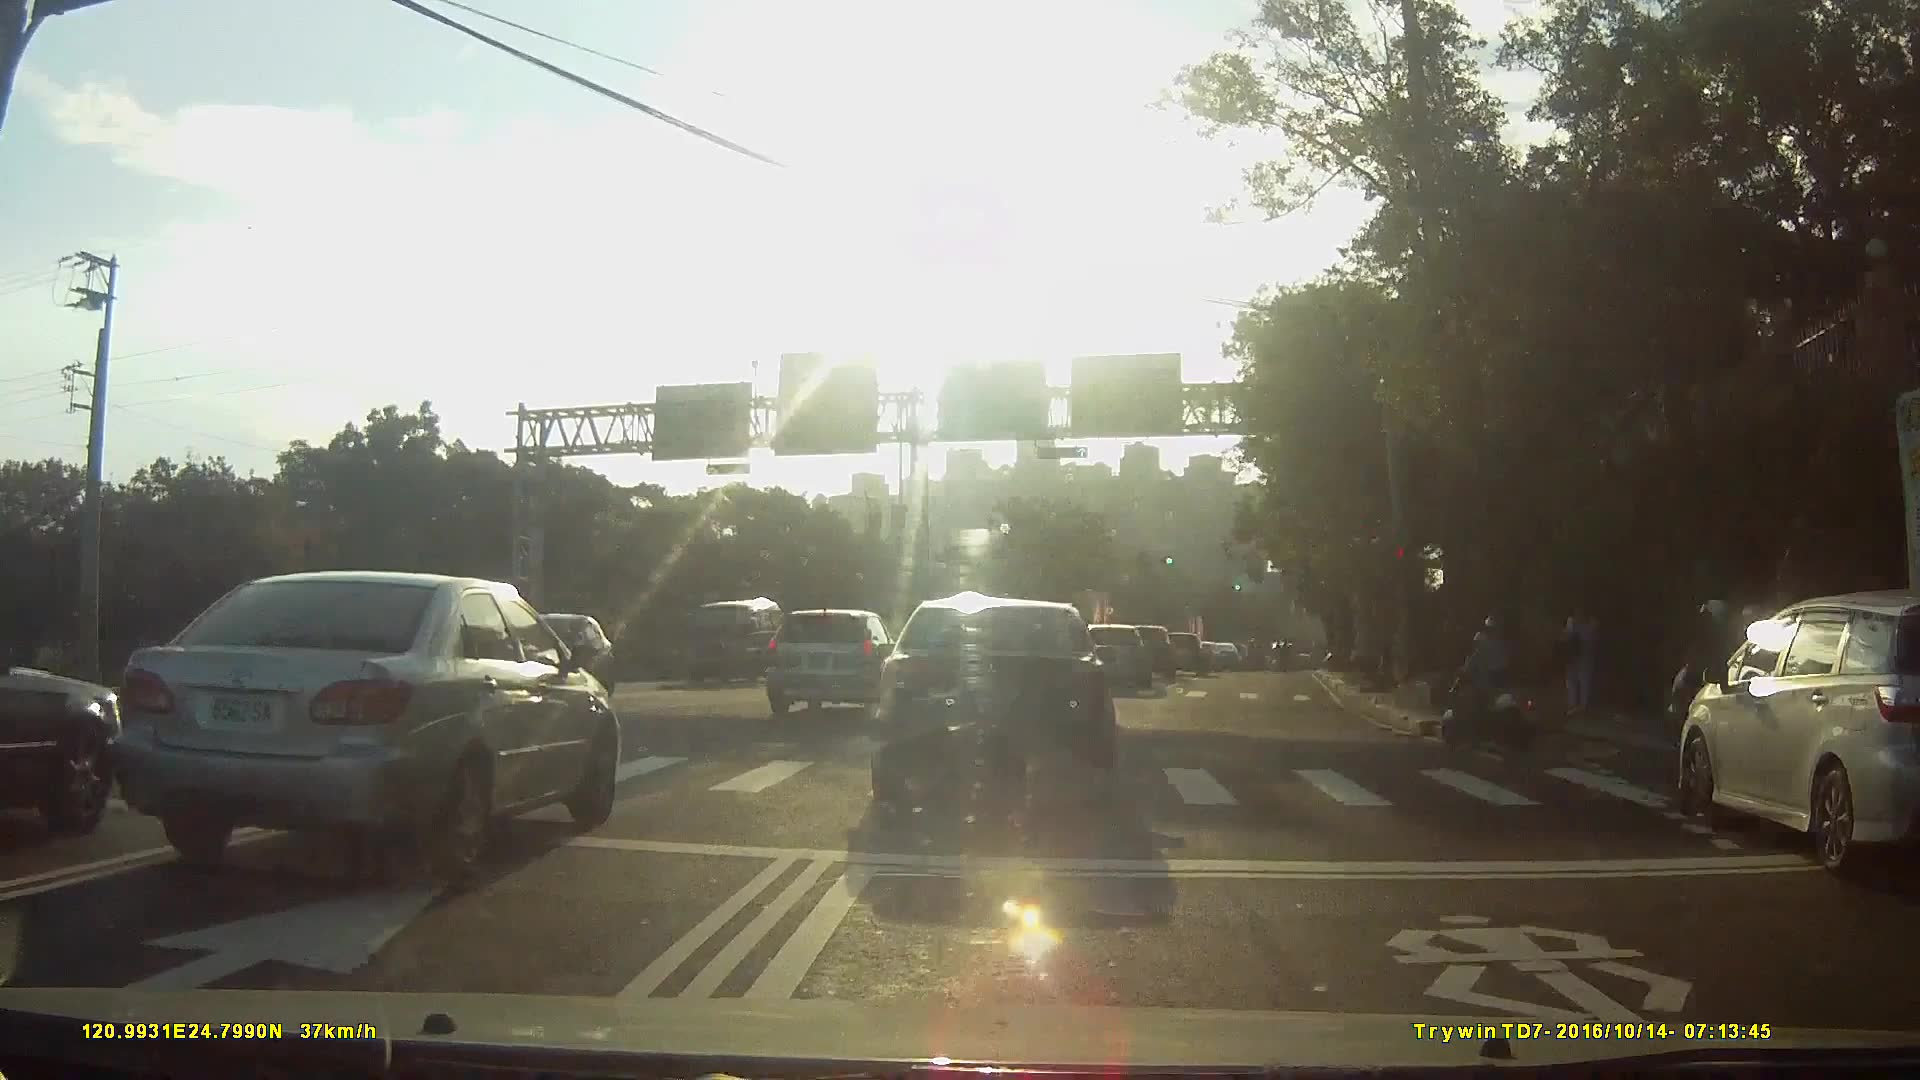pedestrian: (1557, 593, 1602, 721)
rider: (1446, 617, 1555, 759), (1668, 597, 1762, 738)
vehicle: (107, 570, 633, 877), (1674, 586, 1920, 874), (876, 595, 1127, 810), (1, 635, 120, 833), (772, 606, 913, 715), (687, 593, 800, 689), (1085, 622, 1159, 692), (1121, 622, 1183, 680), (1161, 632, 1217, 676), (1209, 645, 1248, 673)
